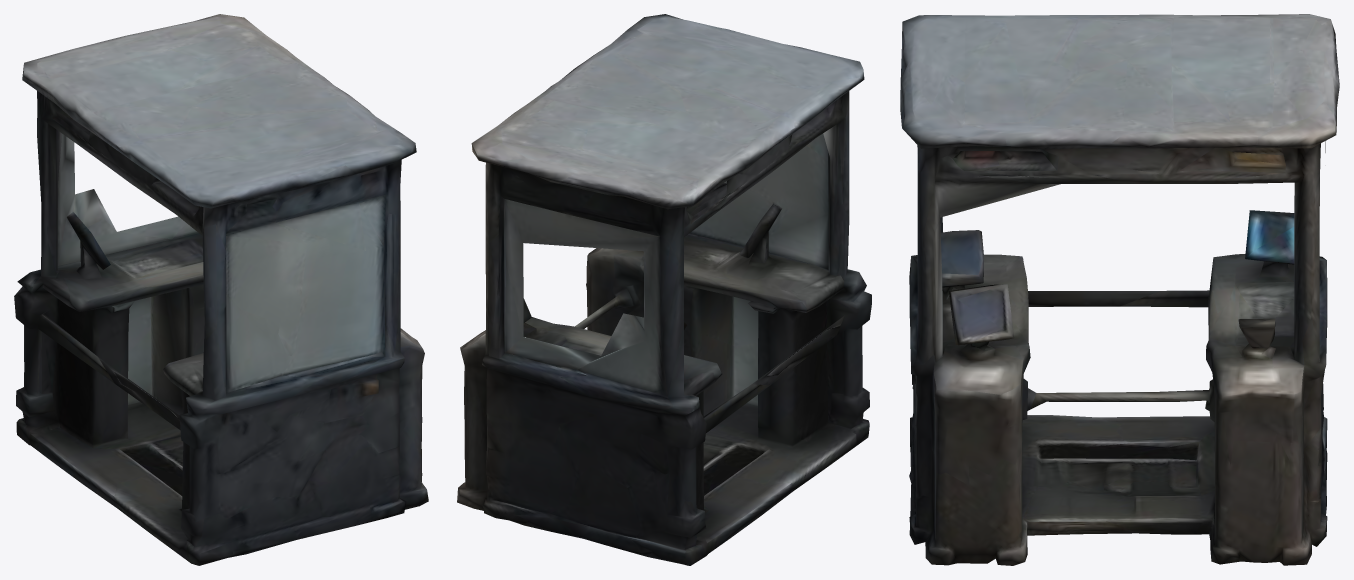
The model's file is xd_guard.glb.
The picture shows the model from 3 angles, left to right: view 1: azimuth 30°, elevation 25°; view 2: azimuth 150°, elevation 25°; view 3: azimuth 270°, elevation 25°; orthographic projection. The views are drawn at different scales.
Parts seen in each view (by area): view 1: tripo_node_c16cc2b1-c152-4604-9f99-030c20581457; view 2: tripo_node_c16cc2b1-c152-4604-9f99-030c20581457; view 3: tripo_node_c16cc2b1-c152-4604-9f99-030c20581457.
Boxes of the visible parts, x1,y1,x2,y2 form: tripo_node_c16cc2b1-c152-4604-9f99-030c20581457: (14,14,428,565); tripo_node_c16cc2b1-c152-4604-9f99-030c20581457: (457,14,871,565); tripo_node_c16cc2b1-c152-4604-9f99-030c20581457: (900,14,1339,565).
Size of the model in its own units: 0.6948 by 1 by 0.9423.
Materials: 1 (1 with a texture image).
